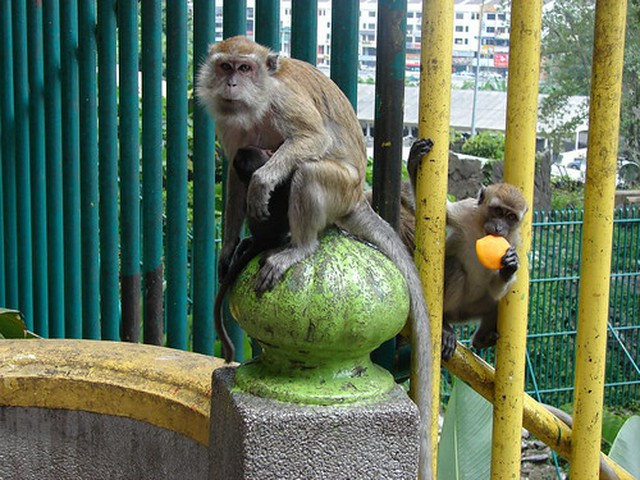Monkey: (193, 38, 377, 299), (450, 171, 525, 353)
